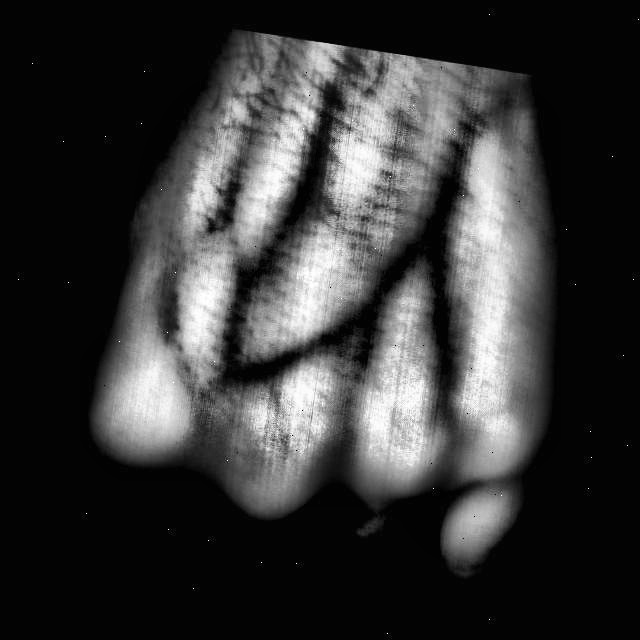Vein: (428, 130, 478, 339)
